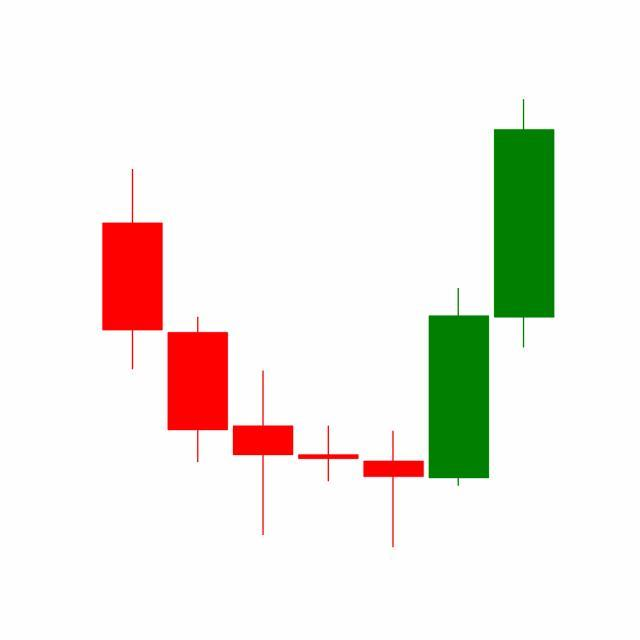Three Line Strike: (230, 284, 492, 548)
